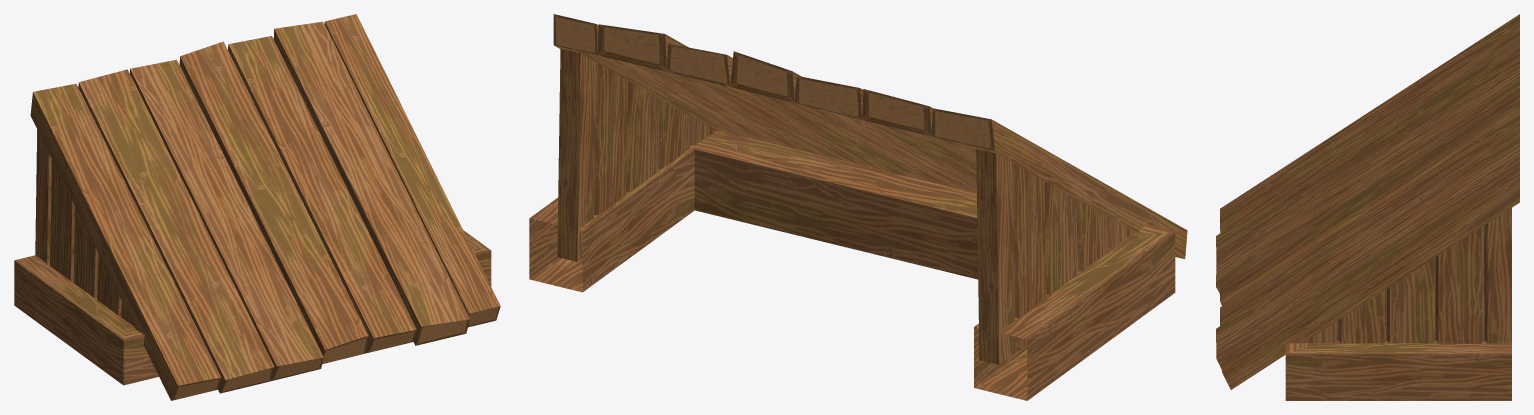
Rendered from roof-qm-roofwooden2x1.glb.
3 renders of one model, left to right at view 1: azimuth 30°, elevation 25°; view 2: azimuth 150°, elevation 25°; view 3: azimuth 270°, elevation 25°, orthographic. The views are drawn at different scales.
Visible parts, largest first — view 1: Cube_019; view 2: Cube_019; view 3: Cube_019.
Boxes of the visible parts, x1,y1,x2,y2 form: Cube_019: [14, 14, 500, 400]; Cube_019: [529, 14, 1187, 400]; Cube_019: [1216, 14, 1519, 400].
Bounding box in the file's own units: 2.26 × 1.25 × 1.56.
2 materials, 2 textured.
